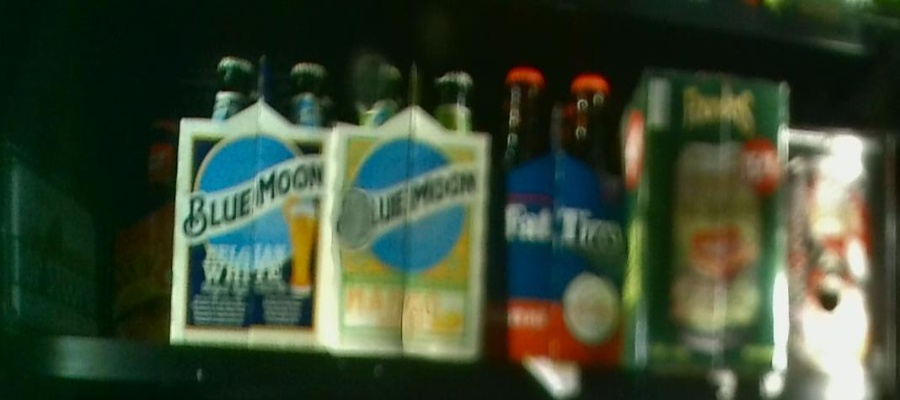bottle: (626, 63, 788, 369), (334, 60, 491, 361), (170, 56, 331, 345), (494, 64, 627, 366)
